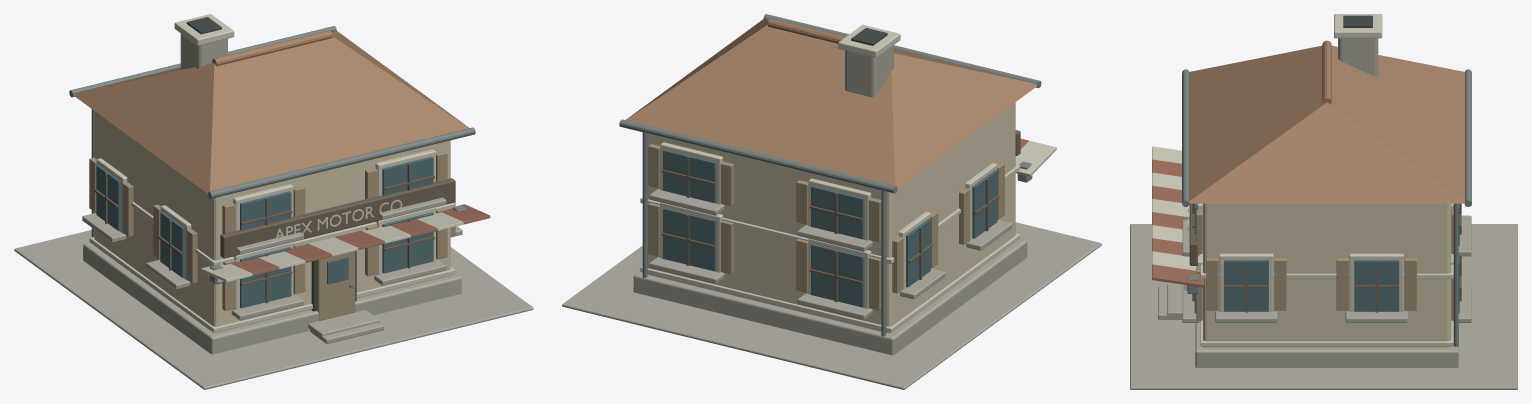
Rendered from district_art_0.glb.
3 renders of one model, left to right at view 1: azimuth 30°, elevation 25°; view 2: azimuth 150°, elevation 25°; view 3: azimuth 270°, elevation 25°, orthographic. The views are drawn at different scales.
Parts seen in each view (by area): view 1: roof, stone, plaster, trim, glass, wood, timber, metal, cloth, dark; view 2: roof, stone, plaster, glass, trim, wood, metal, timber; view 3: roof, stone, plaster, trim, glass, wood, metal, cloth, timber, dark.
Part boxes in pixels (x1=…): roof: x1=73, y1=29, x2=469, y2=193; stone: x1=14, y1=33, x2=533, y2=389; plaster: x1=94, y1=111, x2=450, y2=332; trim: x1=89, y1=14, x2=463, y2=332; glass: x1=96, y1=156, x2=433, y2=308; wood: x1=89, y1=151, x2=455, y2=320; timber: x1=94, y1=163, x2=455, y2=303; metal: x1=69, y1=26, x2=475, y2=288; cloth: x1=231, y1=204, x2=490, y2=275; dark: x1=186, y1=17, x2=356, y2=311; roof: x1=625, y1=18, x2=1037, y2=188; stone: x1=562, y1=45, x2=1101, y2=389; plaster: x1=647, y1=102, x2=1015, y2=333; glass: x1=663, y1=149, x2=997, y2=307; trim: x1=640, y1=25, x2=1056, y2=332; wood: x1=648, y1=144, x2=1004, y2=310; metal: x1=619, y1=14, x2=1041, y2=336; timber: x1=661, y1=130, x2=1020, y2=302; roof: x1=1189, y1=40, x2=1464, y2=203; stone: x1=1130, y1=38, x2=1517, y2=389; plaster: x1=1203, y1=203, x2=1451, y2=347; trim: x1=1152, y1=14, x2=1453, y2=346; glass: x1=1194, y1=203, x2=1459, y2=313; wood: x1=1196, y1=209, x2=1453, y2=320; metal: x1=1182, y1=69, x2=1471, y2=346; cloth: x1=1152, y1=159, x2=1204, y2=287; timber: x1=1189, y1=203, x2=1461, y2=312; dark: x1=1343, y1=15, x2=1372, y2=27.
Bounding box in the file's own units: 12.5 × 9.29 × 12.5.
